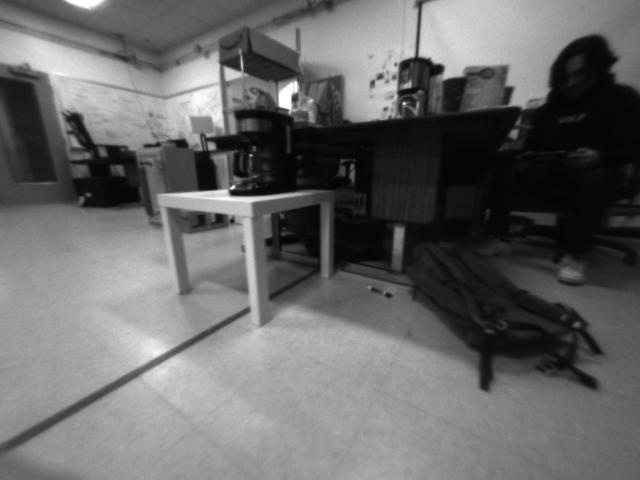coffee_pot: (226, 106, 301, 195)
